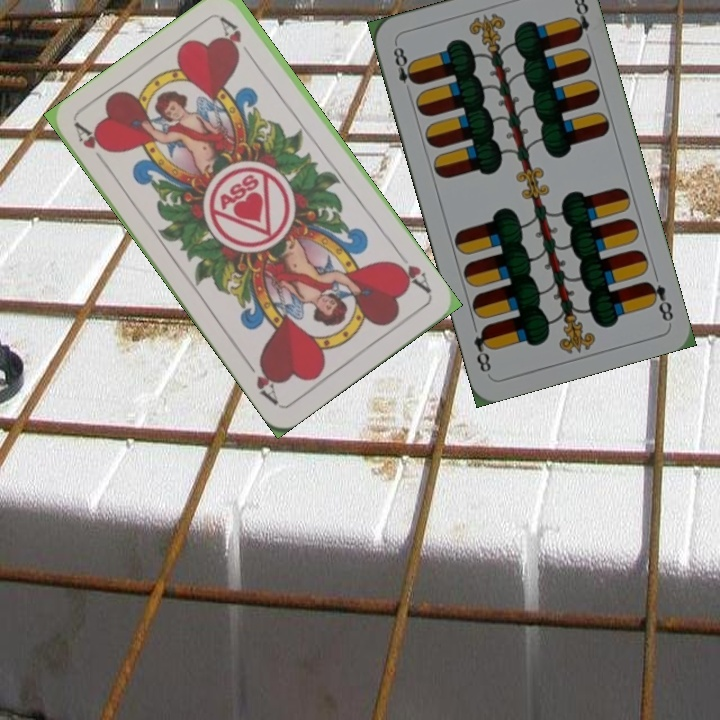E8: (641, 277, 676, 324), (389, 40, 420, 87)
HA: (388, 246, 434, 297), (71, 119, 113, 171)
